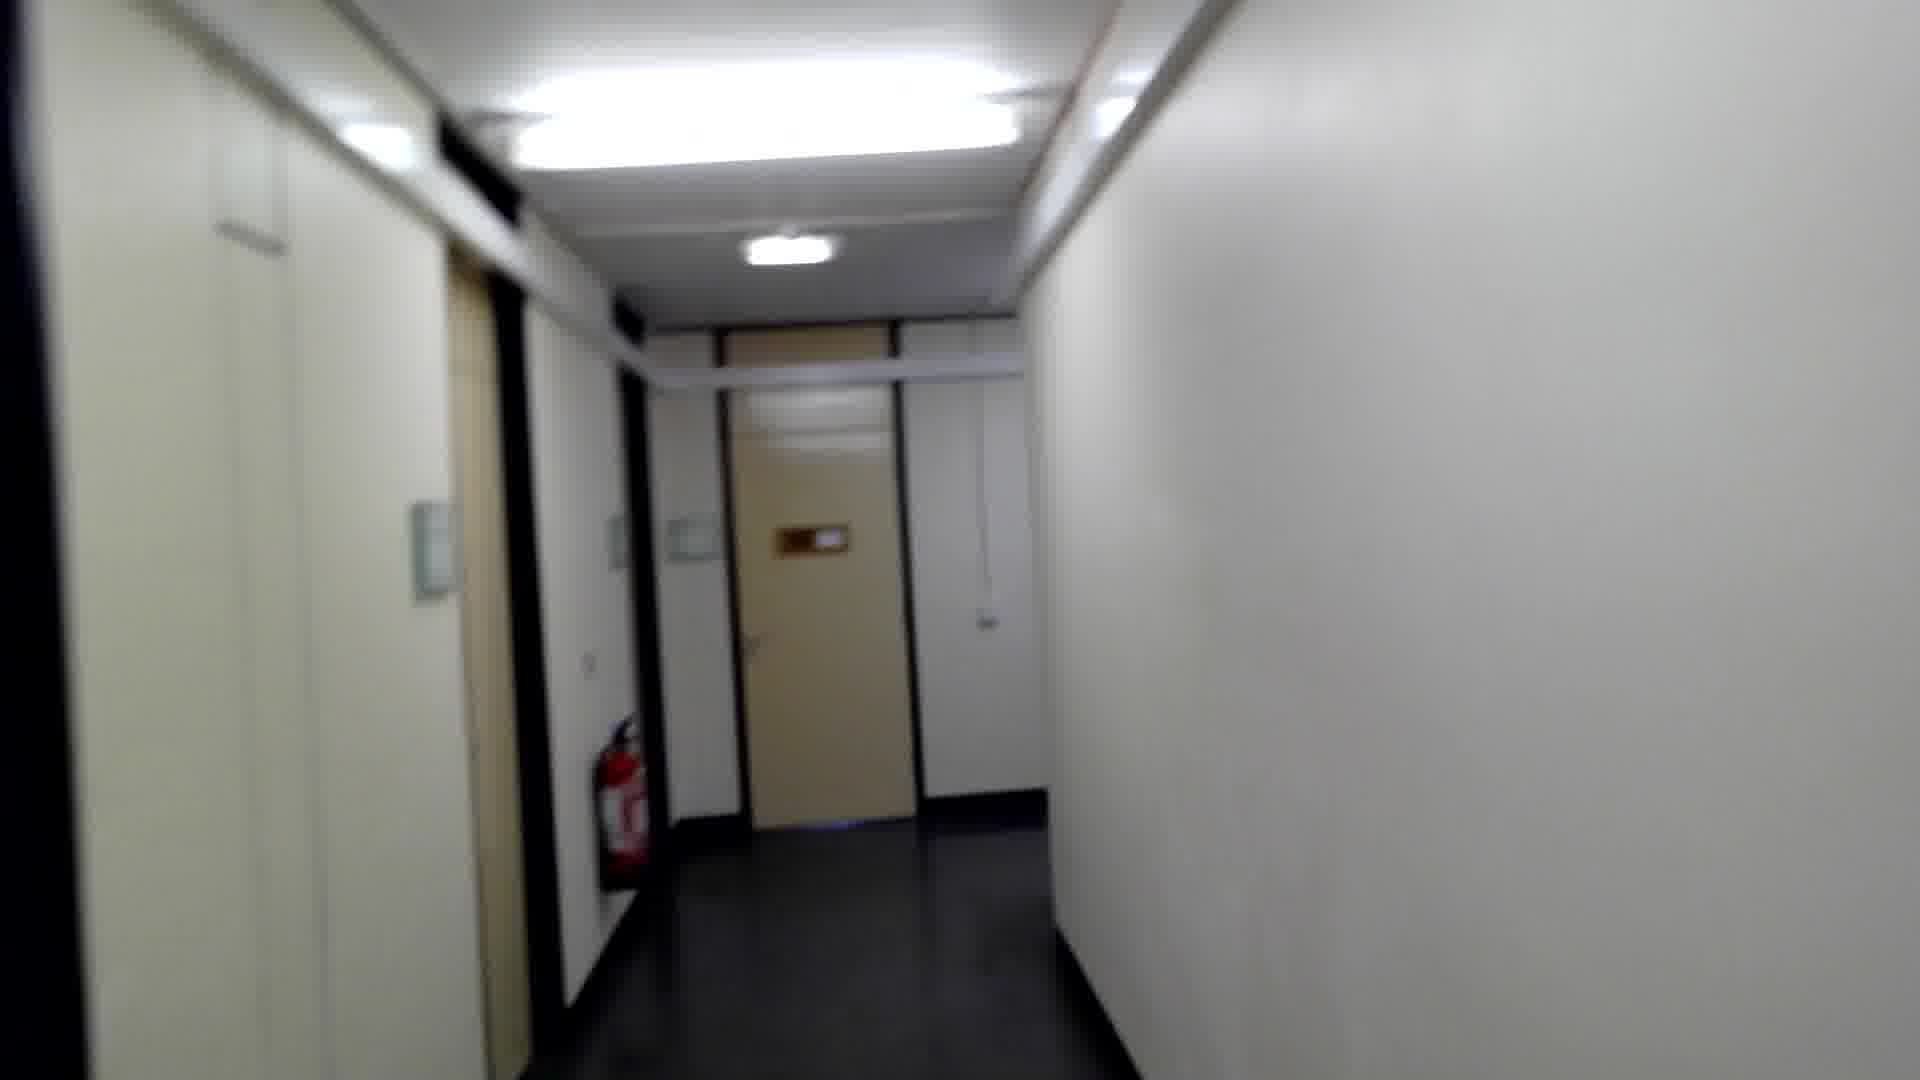Door: (711, 414, 955, 847), (465, 222, 547, 1080)
